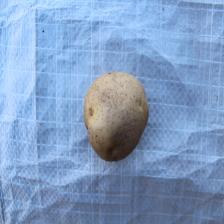Diseased-fungal potato: (83, 71, 151, 164)
